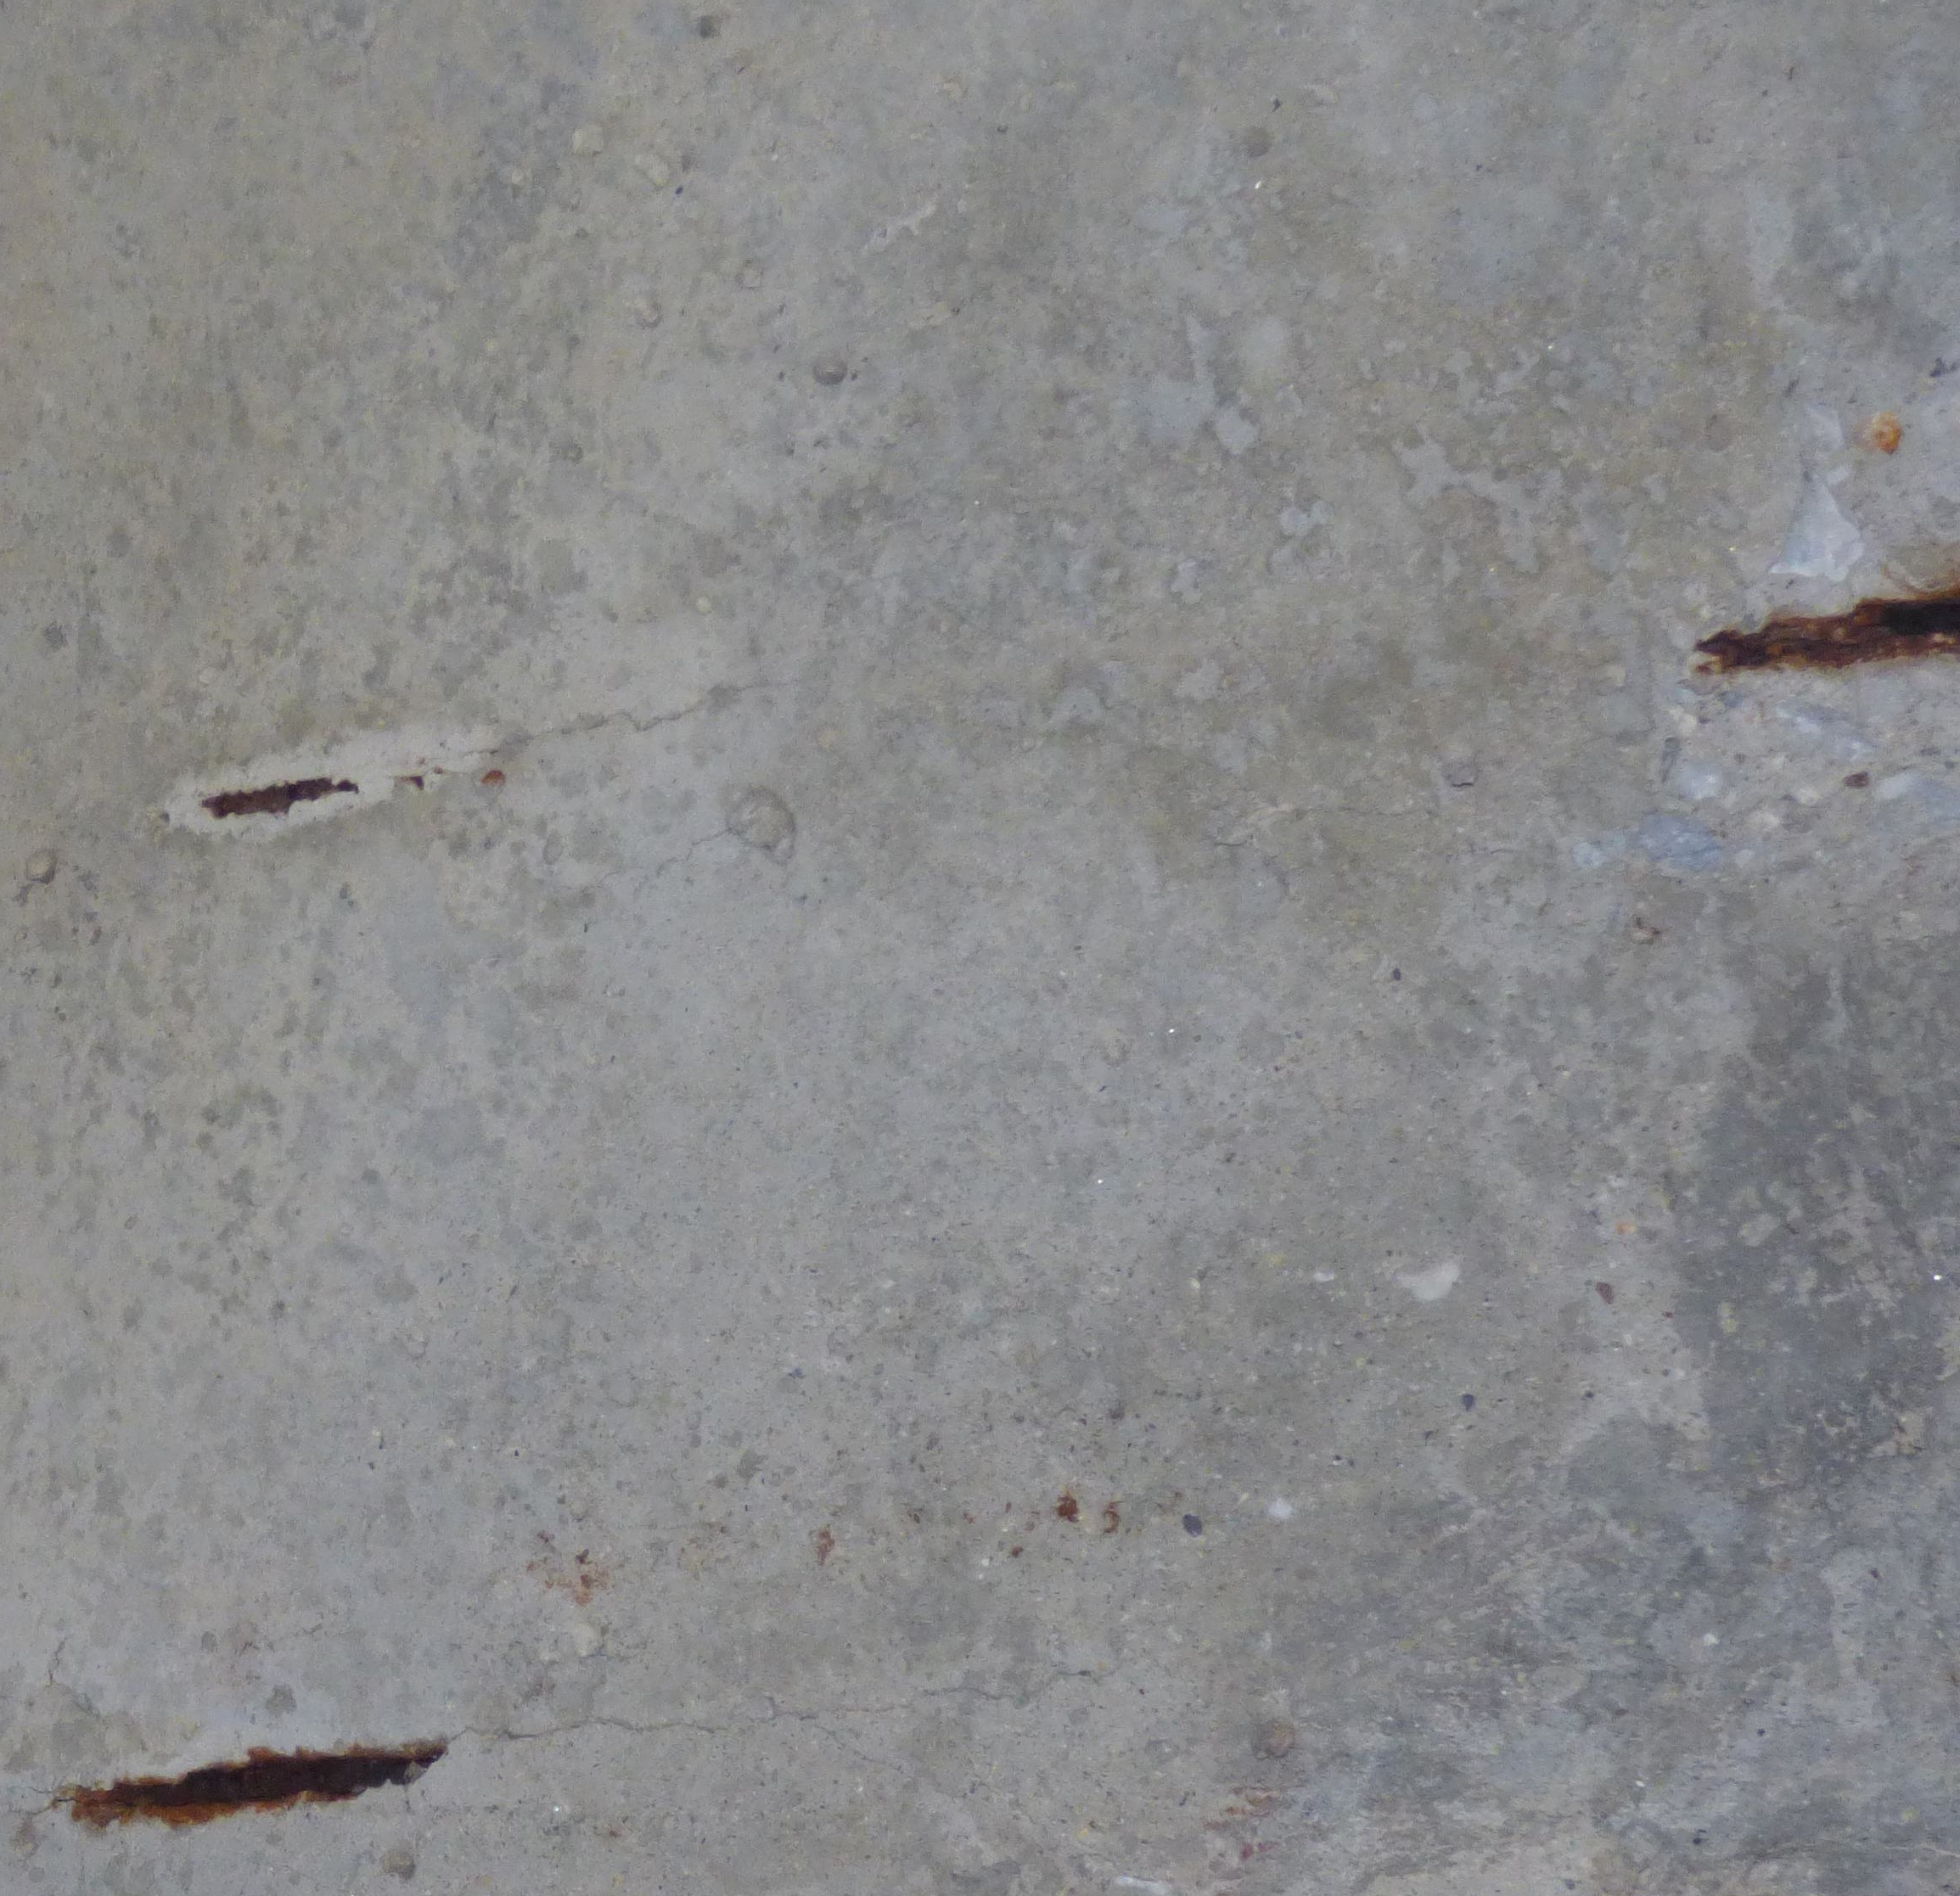Exposed reinforcement: (72, 1744, 443, 1826), (1694, 596, 1960, 675), (199, 775, 360, 820)
